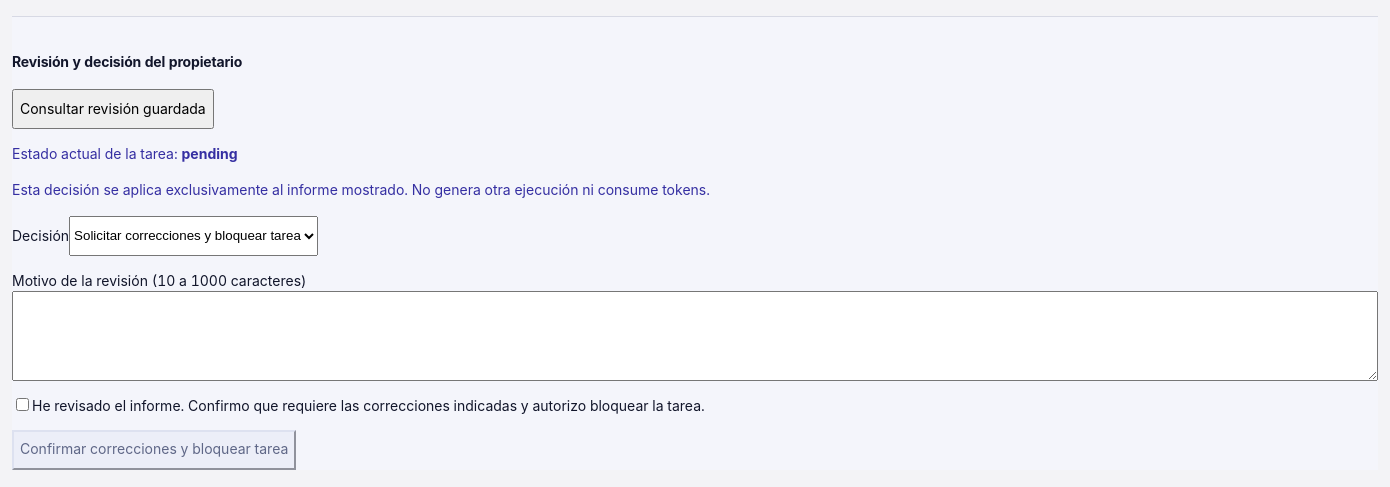
it: document work review › requires a reason and explicit confirmation, invalidating confirmation on edits
expect the dropdown labelled "Decisión" is shown: met, box [69,216,318,256]
expect the button "Confirmar correcciones y bloquear tarea" is disabled: met, box [12,430,296,470]
Click the checkbox: (22, 404) [16,398,29,411]
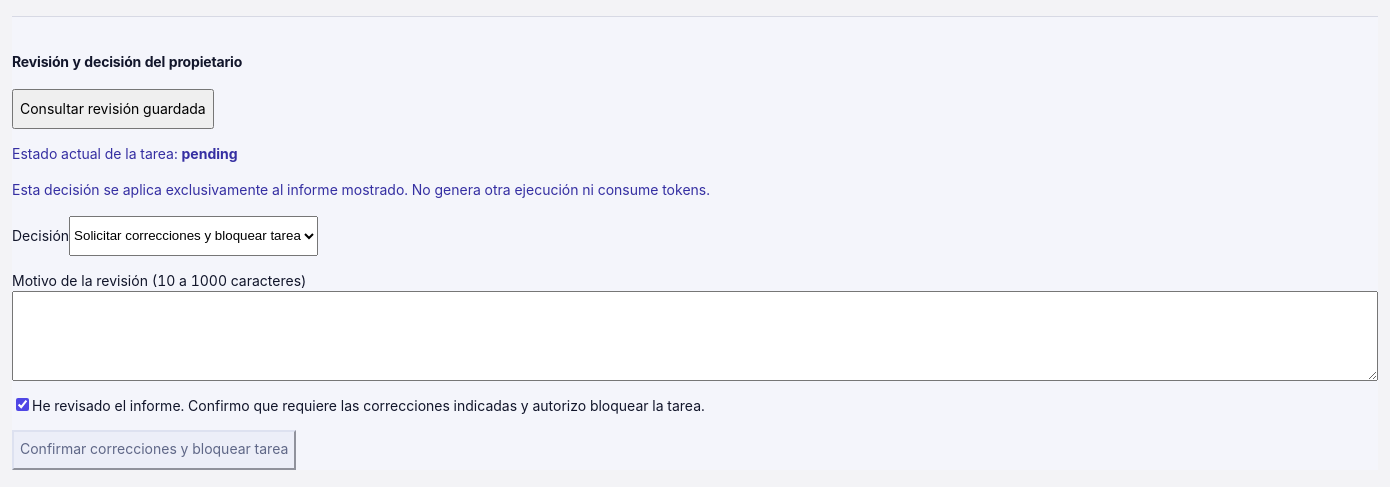
expect the button "Confirmar correcciones y bloquear tarea" is disabled: met, box [12,430,296,470]
In the text box: (695, 336) [12,291,1378,381], type "Reason for corrections"
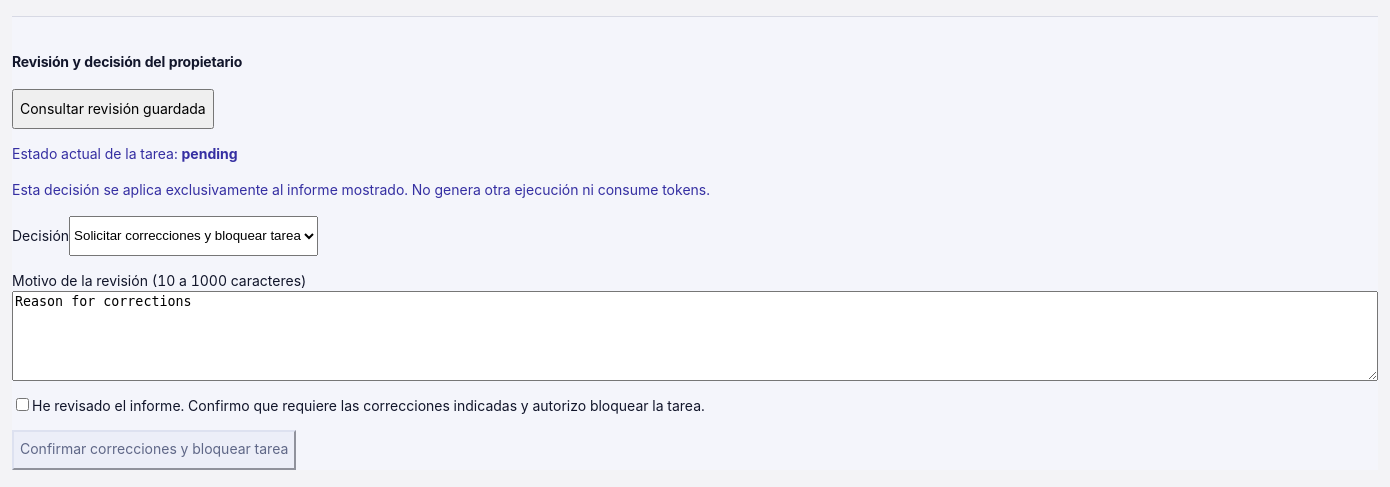
expect the button "Confirmar correcciones y bloquear tarea" is disabled: met, box [12,430,296,470]
expect the checkbox is not checked: met, box [16,398,29,411]
